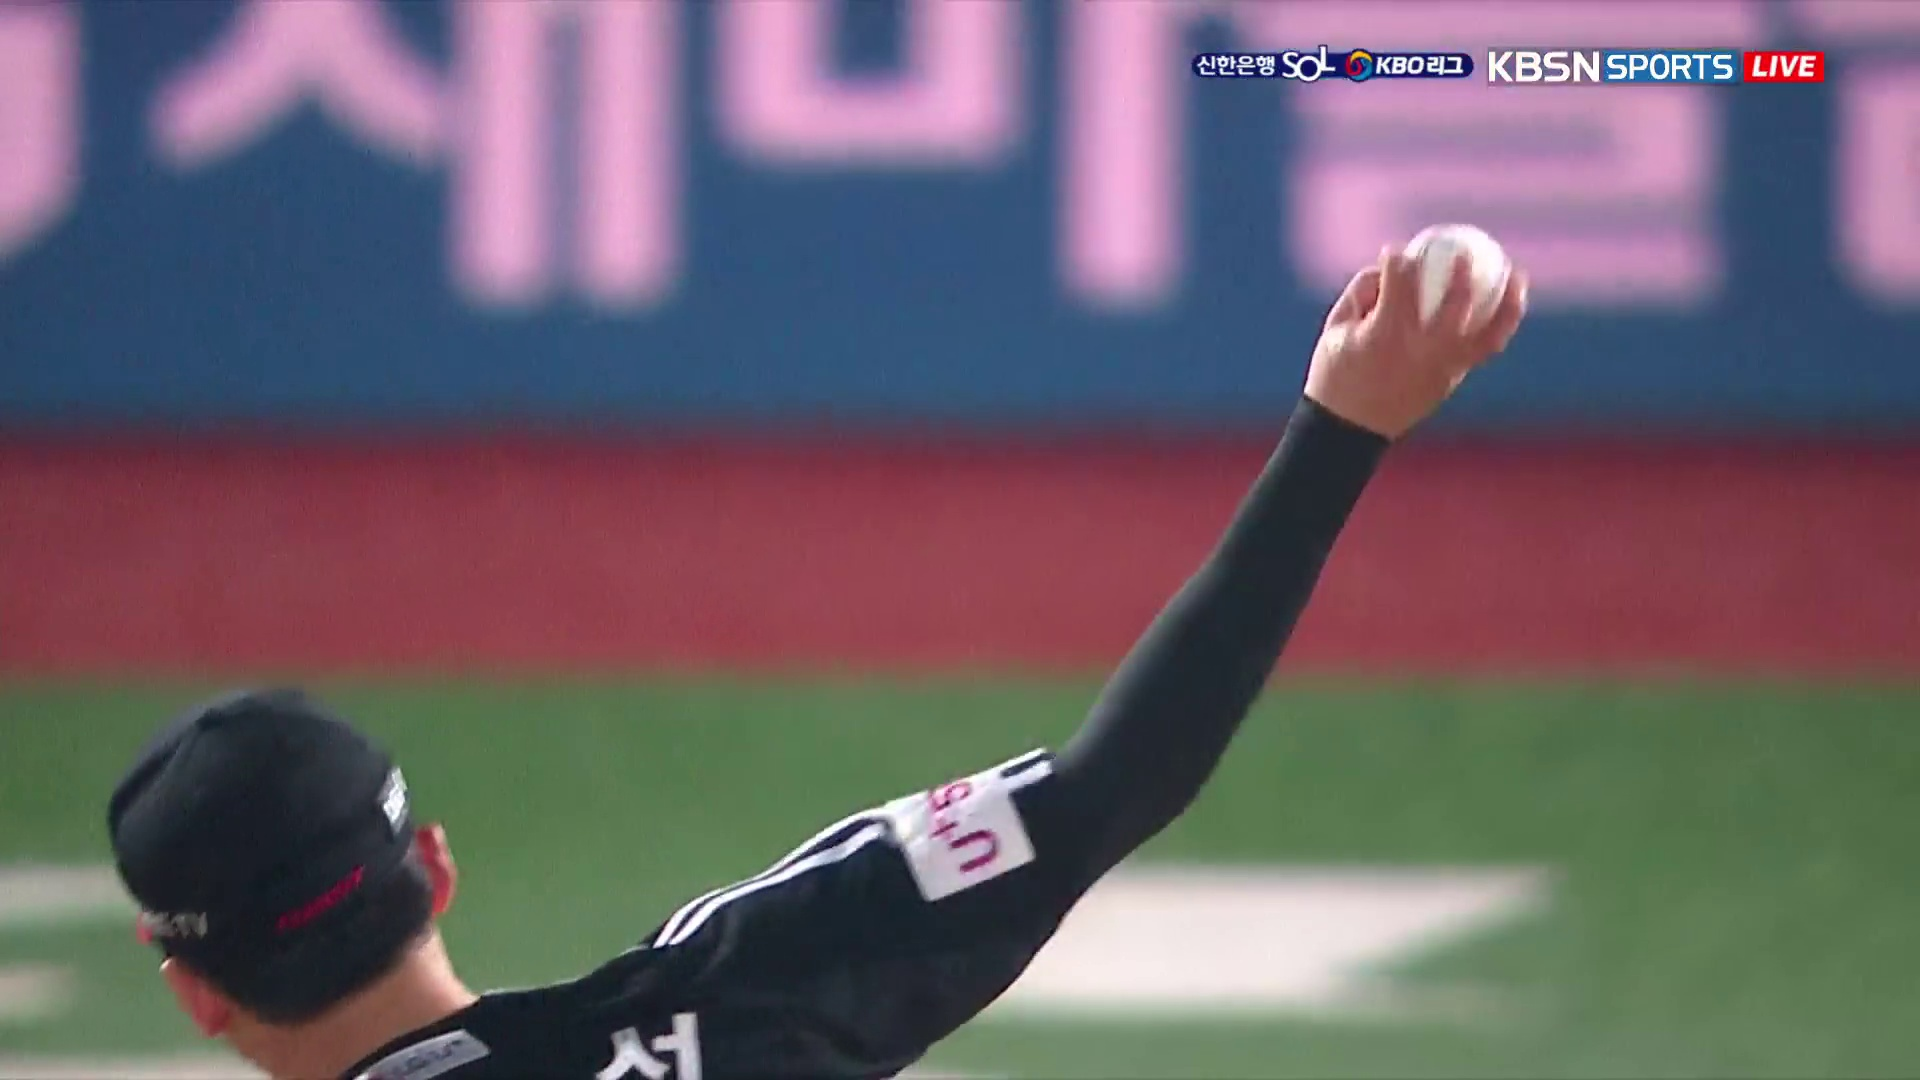zoomin_hand: (1040, 219, 1540, 902)
